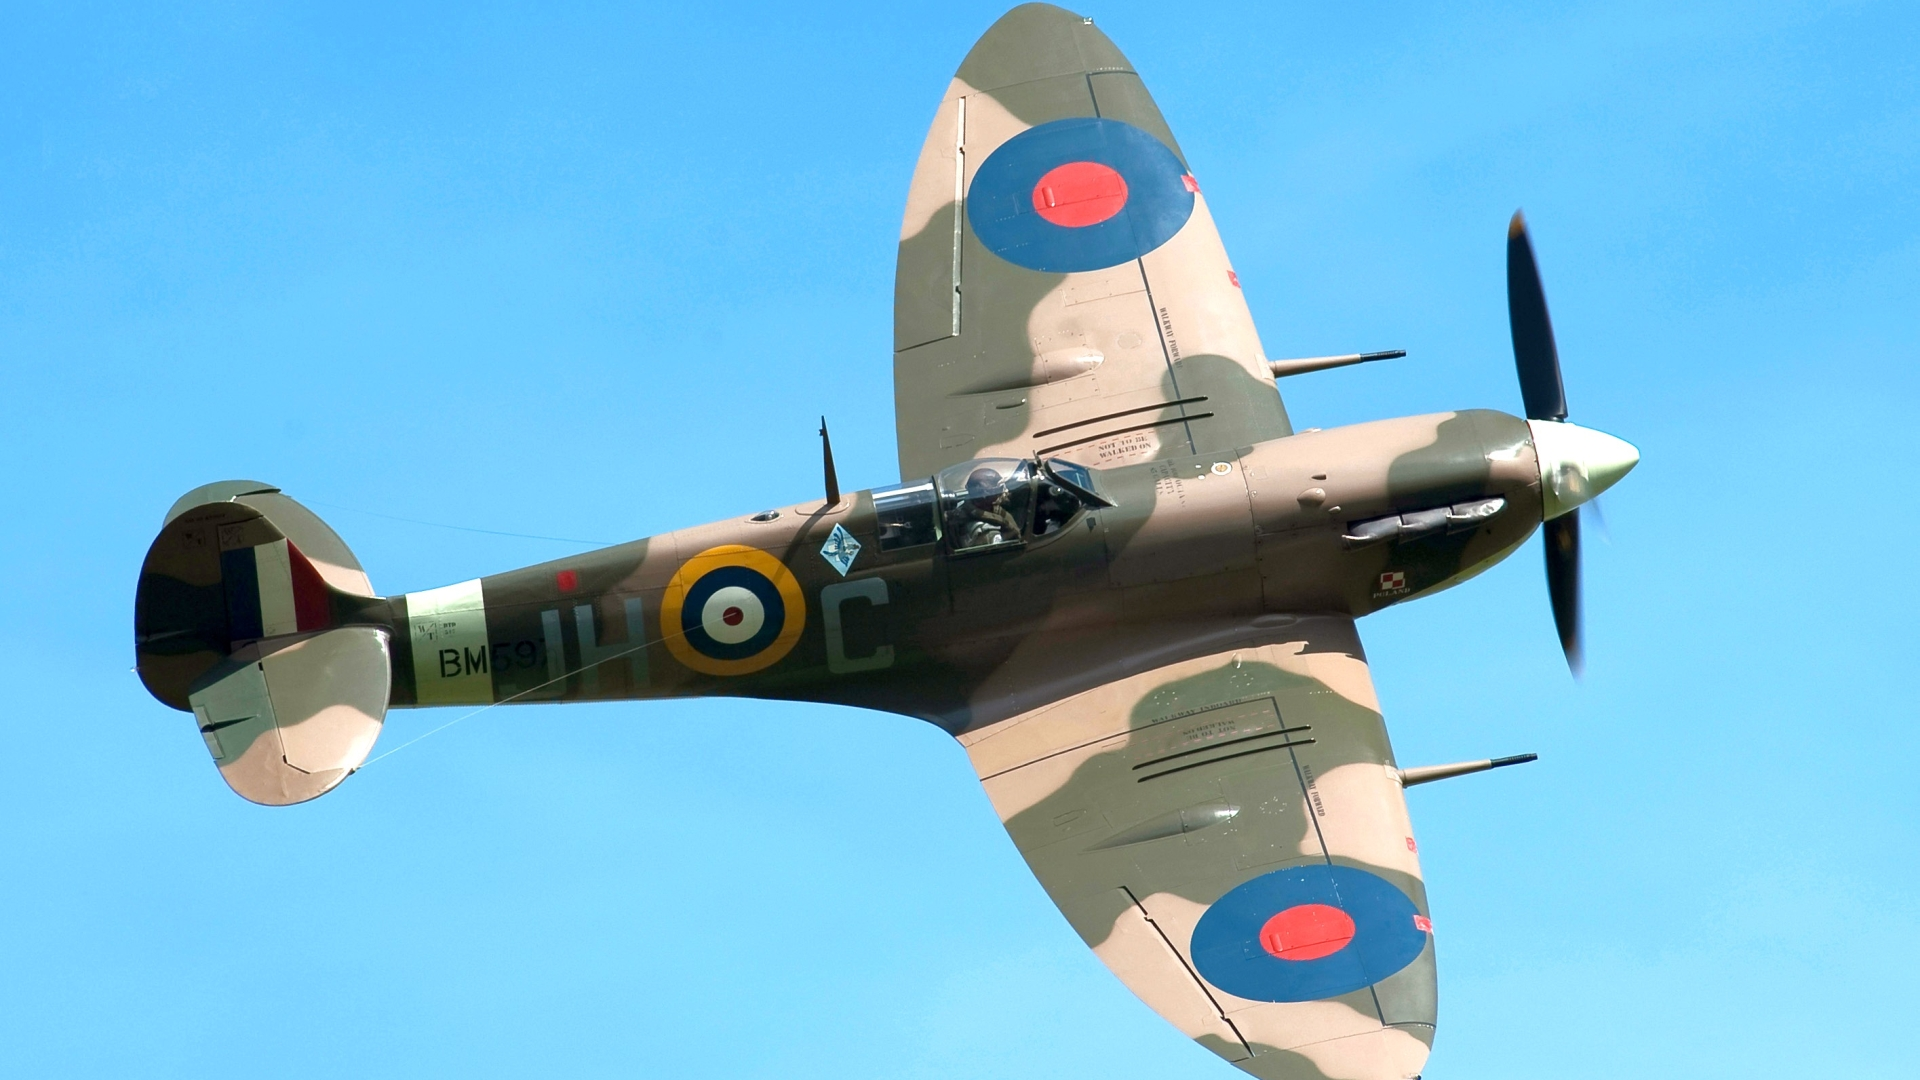Aeronef_militaire: (128, 4, 1665, 1080)
